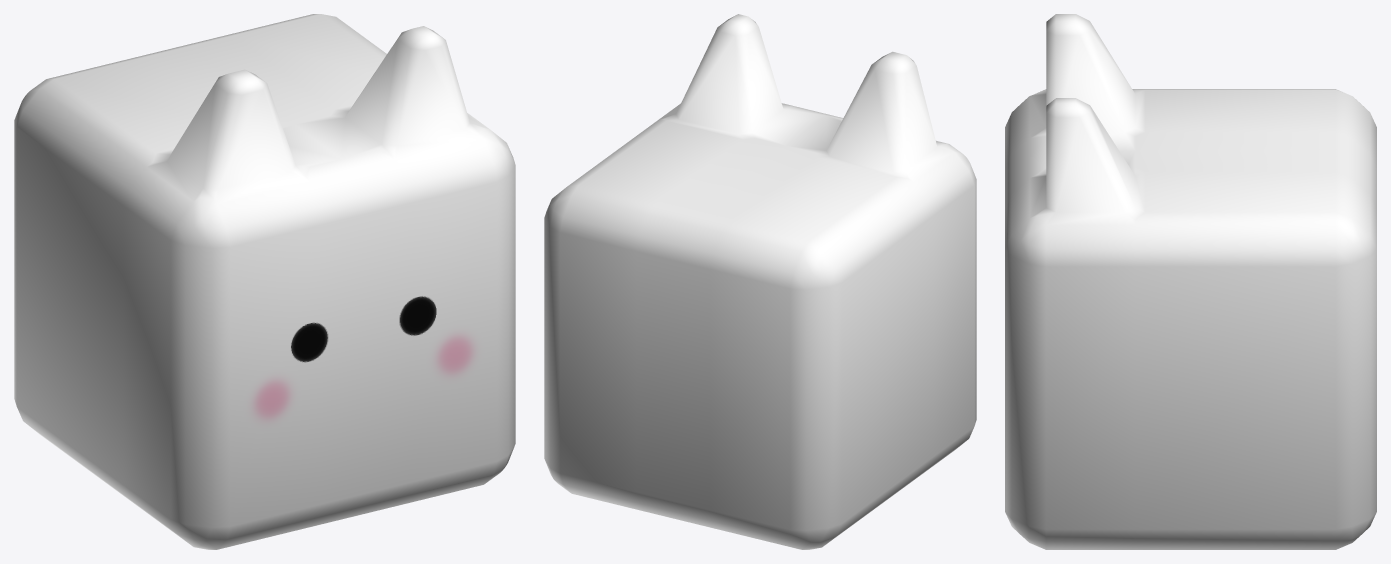
The model's file is witch_cat.dae.
The picture shows the model from 3 angles, left to right: view 1: azimuth 30°, elevation 25°; view 2: azimuth 150°, elevation 25°; view 3: azimuth 270°, elevation 25°; orthographic projection. The views are drawn at different scales.
Visible parts, largest first — view 1: Cube; view 2: Cube; view 3: Cube.
Part boxes in pixels (<box>): Cube: <box>14,14,515,549</box>; Cube: <box>544,14,976,549</box>; Cube: <box>1005,14,1376,549</box>.
Bounding box in the file's own units: 2.48 × 2.48 × 3.16.
1 material, 1 textured.
